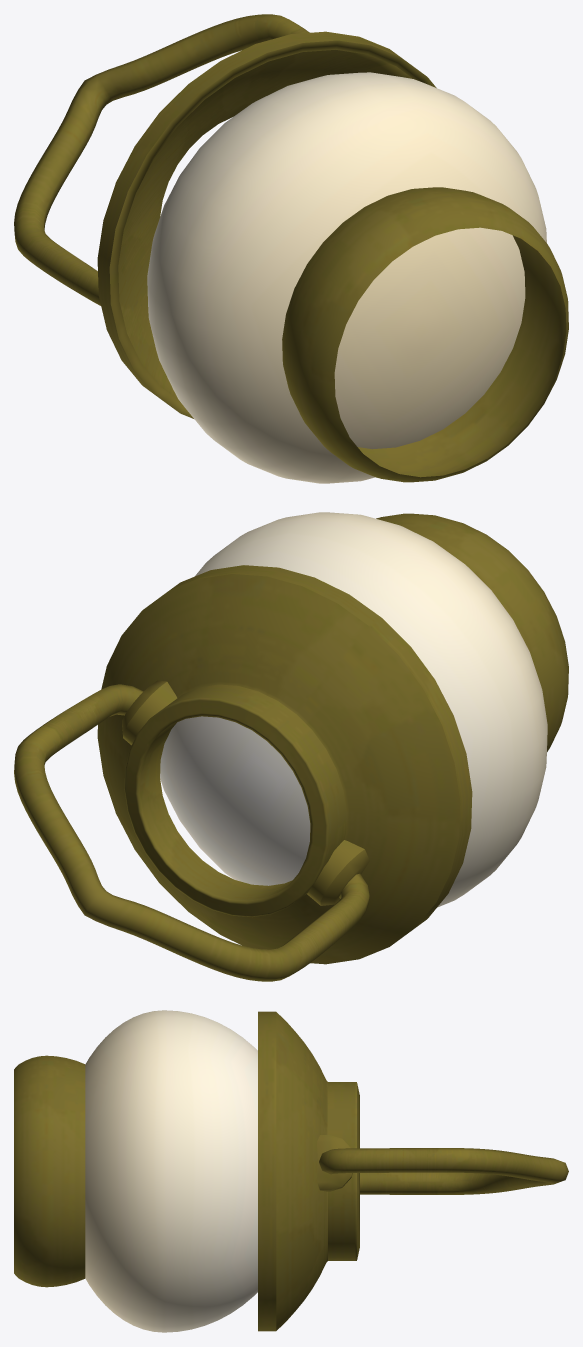
Rendered from LanternFloor.FBX.
3 renders of one model, top to bottom at view 1: azimuth 30°, elevation 25°; view 2: azimuth 150°, elevation 25°; view 3: azimuth 270°, elevation 25°, orthographic. The views are drawn at different scales.
Parts seen in each view (by area): view 1: polySurface38105__KinokoRamp_AI, polySurface38105__KinokoRampIron00_AI; view 2: polySurface38105__KinokoRampIron00_AI, polySurface38105__KinokoRamp_AI; view 3: polySurface38105__KinokoRamp_AI, polySurface38105__KinokoRampIron00_AI.
Boxes of the visible parts, <box> form: polySurface38105__KinokoRamp_AI: <box>147,72,546,483</box>; polySurface38105__KinokoRampIron00_AI: <box>14,14,568,482</box>; polySurface38105__KinokoRampIron00_AI: <box>14,513,568,981</box>; polySurface38105__KinokoRamp_AI: <box>160,512,547,907</box>; polySurface38105__KinokoRamp_AI: <box>85,1010,257,1332</box>; polySurface38105__KinokoRampIron00_AI: <box>14,1011,568,1331</box>.
Size of the model in its own units: 84.57 by 84.57 by 145.
